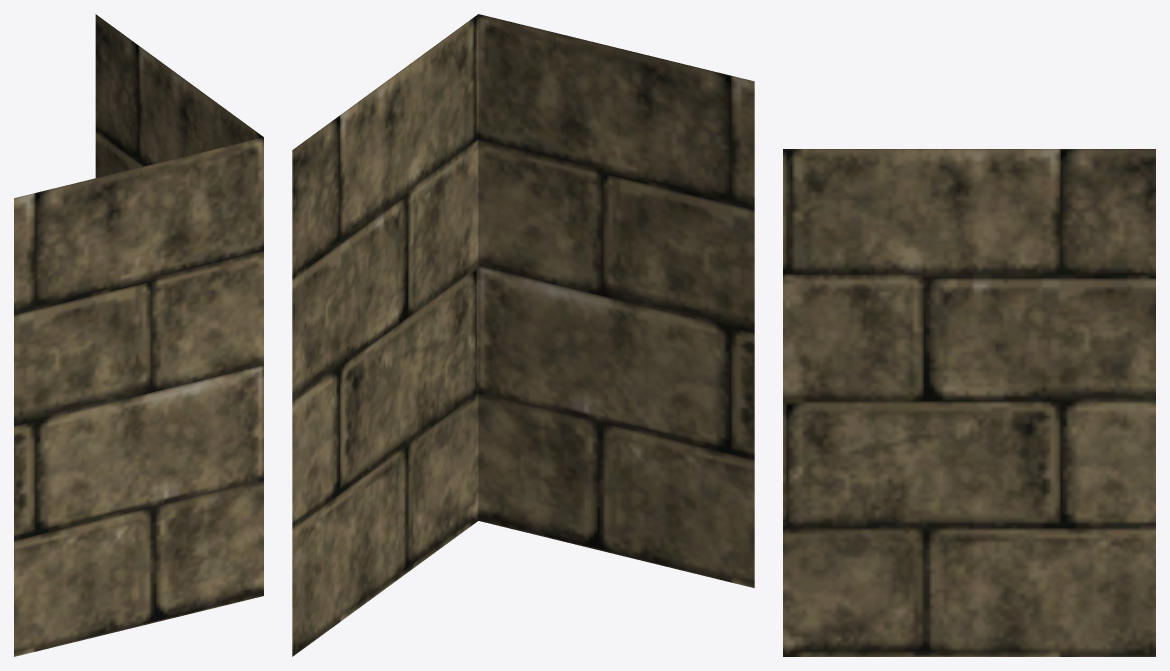
The model's file is OVERHILL_A_01_OBJECT67.fbx.
The picture shows the model from 3 angles, left to right: view 1: azimuth 30°, elevation 25°; view 2: azimuth 150°, elevation 25°; view 3: azimuth 270°, elevation 25°; orthographic projection. The views are drawn at different scales.
Visible parts, largest first — view 1: OVERHILL_A_01_OBJECT67; view 2: OVERHILL_A_01_OBJECT67; view 3: OVERHILL_A_01_OBJECT67.
Part boxes in pixels (left/top/right/bottom): OVERHILL_A_01_OBJECT67: left=14, top=14, right=263, bottom=656; OVERHILL_A_01_OBJECT67: left=292, top=14, right=754, bottom=656; OVERHILL_A_01_OBJECT67: left=783, top=149, right=1155, bottom=656.
Bounding box in the file's own units: 12000 × 21050 × 14000.
Materials: 1 (1 with a texture image).
